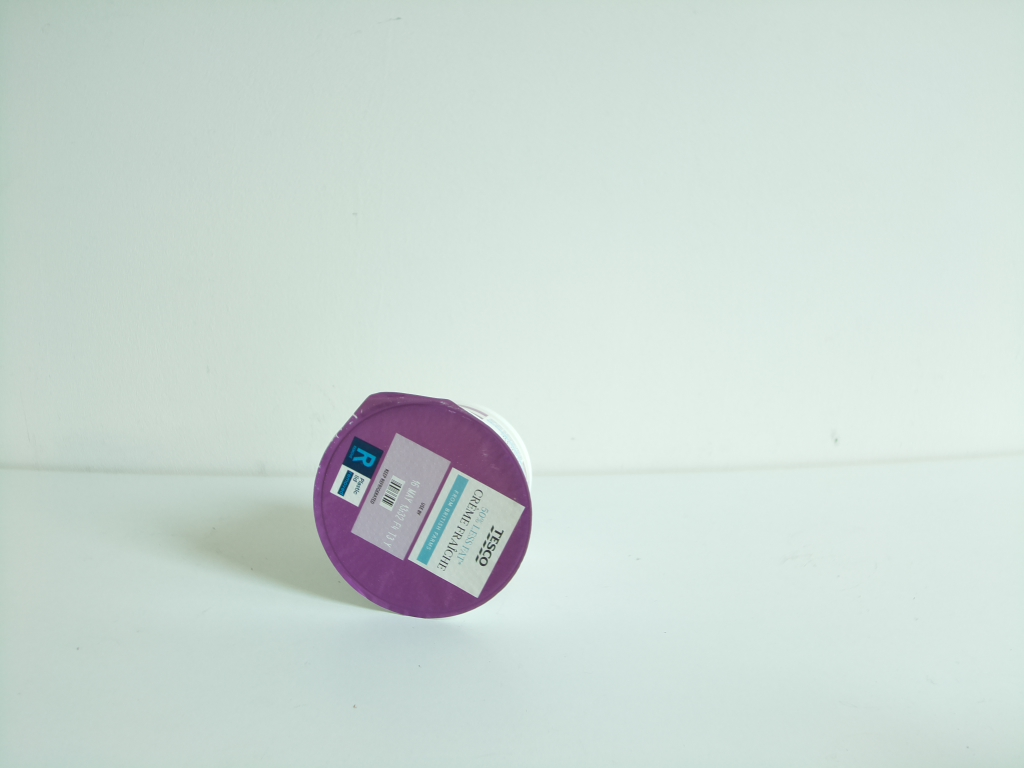cream: (305, 391, 540, 624)
